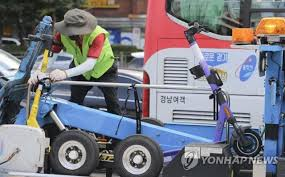kick_handler: (185, 20, 208, 41)
kick_wheel: (233, 127, 261, 156)
